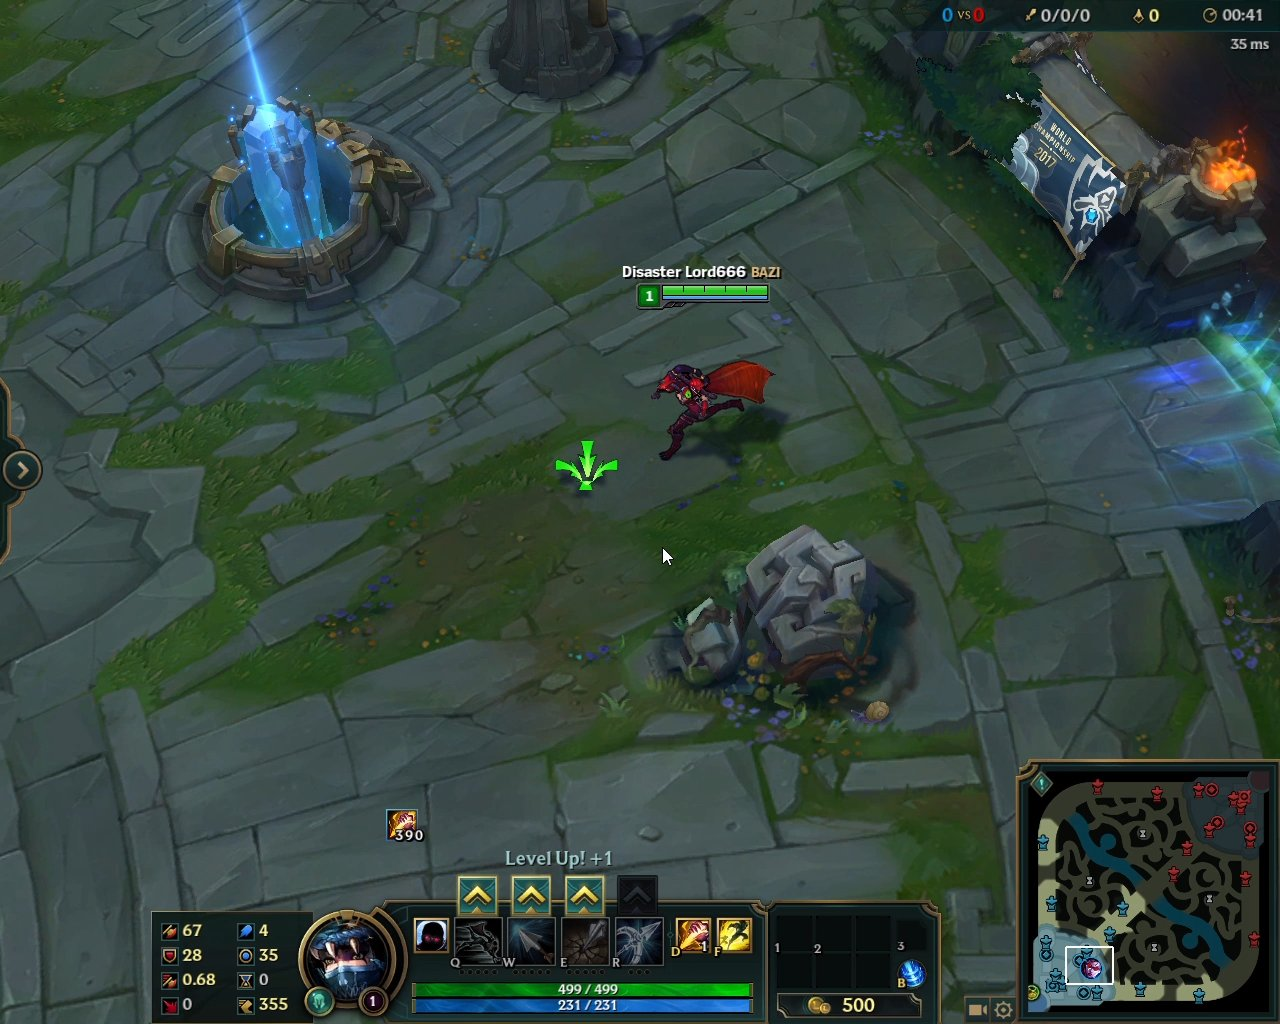Vayne: (630, 355, 779, 469)
